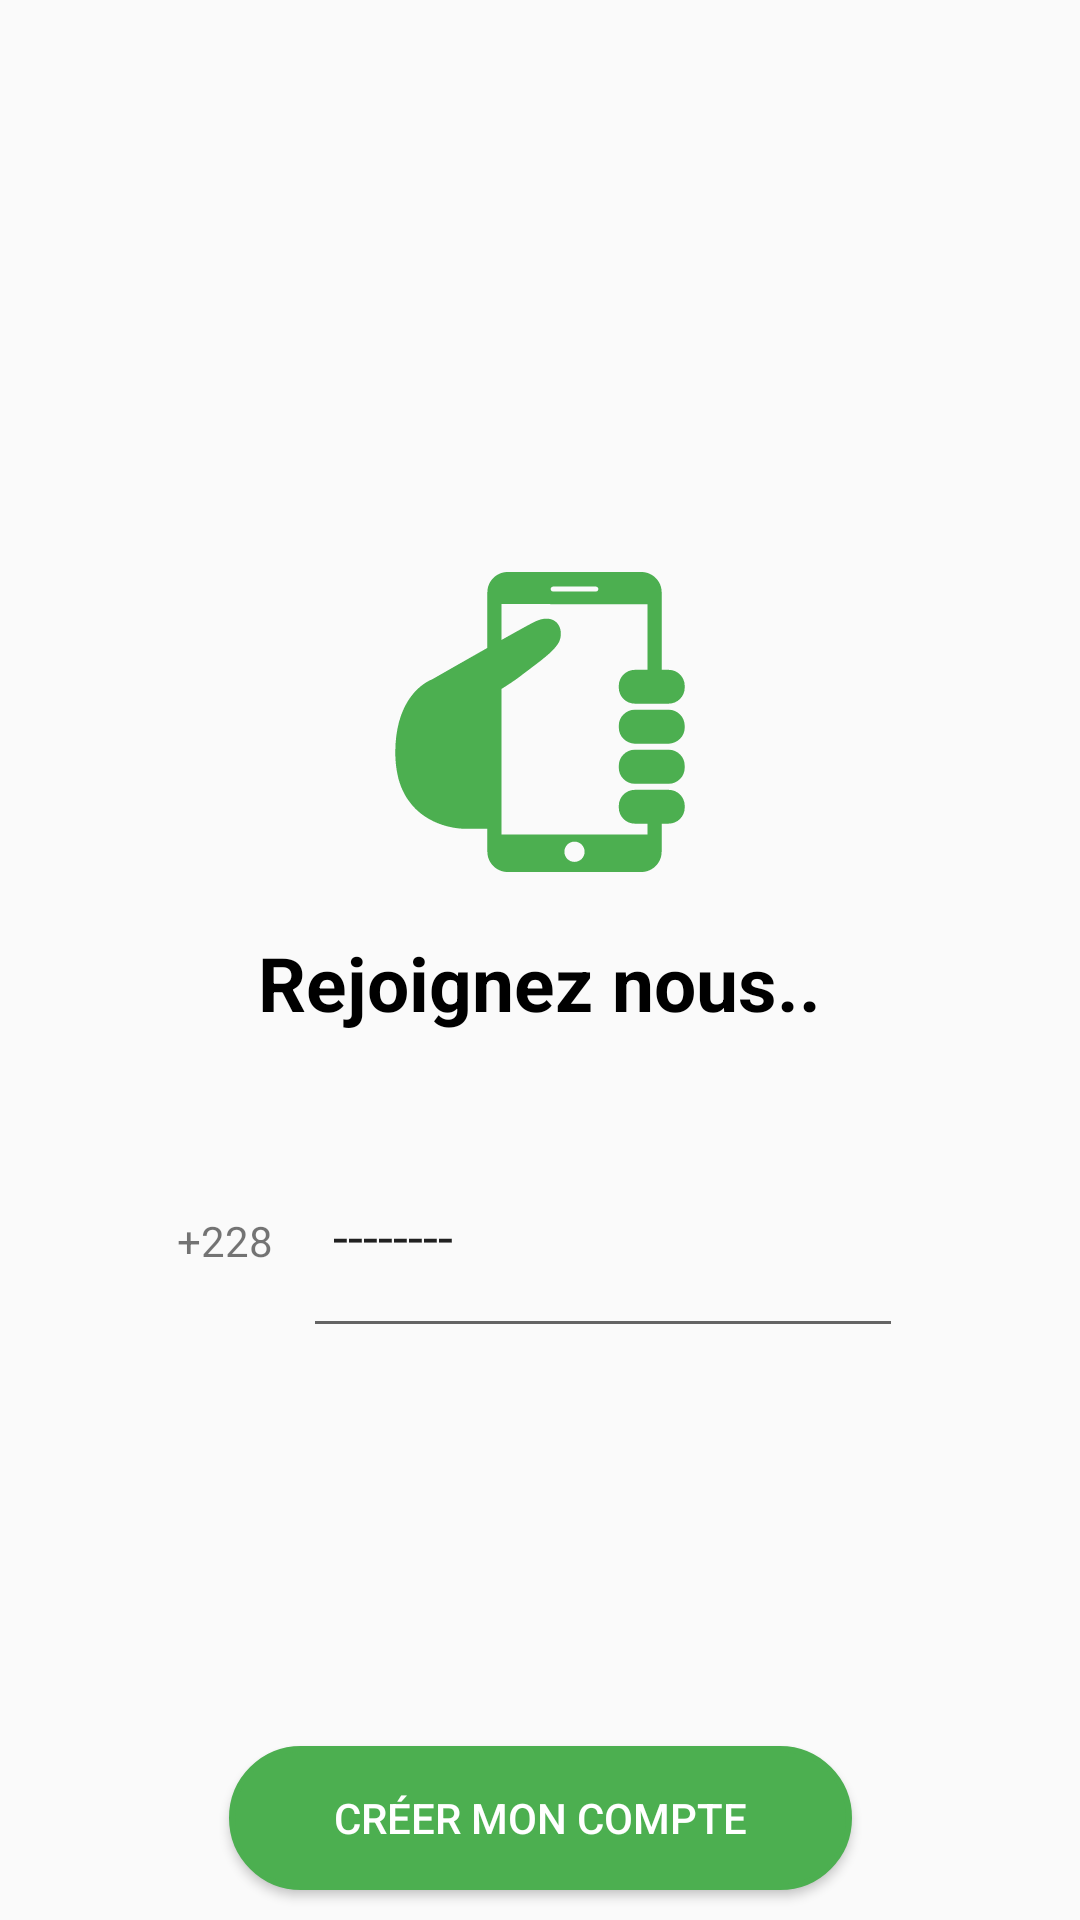

Icons on this 1080 × 1920 Android screen, each with its box as bbox(x1, y1, x2, y2):
mobile phone: bbox(395, 572, 685, 872)
